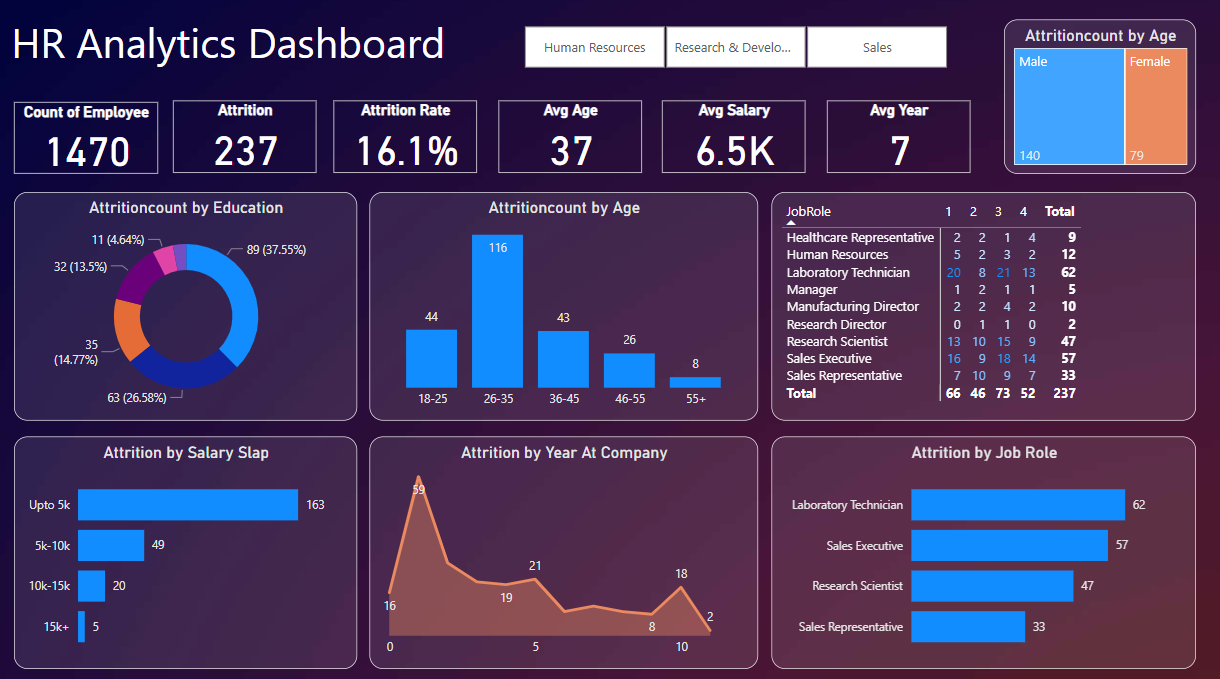

Layout of this report page (visuals, bound fields, positions):
{"tool":"powerbi","page":{"name":"Page 1","canvas":[1280,720],"ordinal":0},"visuals":[{"type":"card","title":"Count of Employee","fields":{"Values":["CountNonNull(HR_Analytics.EmpID)"]},"box":[15.6,112.5,149.9,75],"z":0},{"type":"card","title":"Attrition","fields":{"Values":["Sum(HR_Analytics.Attritioncount)"]},"box":[181.4,111.5,149.3,75.6],"z":1000},{"type":"card","title":"Attrition Rate","fields":{"Values":["HR_Analytics.AtrritionRate"]},"box":[347.7,111.5,149.3,75.6],"z":2000},{"type":"card","title":"Avg Age","fields":{"Values":["Avg(HR_Analytics.Age)"]},"box":[519.7,111.5,149.3,75.6],"z":3000},{"type":"card","title":"Avg Salary","fields":{"Values":["Avg(HR_Analytics.MonthlyIncome)"]},"box":[689.8,111.5,149.3,75.6],"z":4000},{"type":"card","title":"Avg Year","fields":{"Values":["Avg(HR_Analytics.YearsAtCompany)"]},"box":[861.7,111.5,149.3,75.6],"z":5000},{"type":"donutChart","title":"Attritioncount by Education","fields":{"Category":["HR_Analytics.EducationField"],"Y":["Sum(HR_Analytics.Attritioncount)"]},"box":[15.1,206,357.2,238.1],"z":6000},{"type":"columnChart","title":"Attritioncount by Age","fields":{"Category":["HR_Analytics.AgeGroup","HR_Analytics.EducationField"],"Y":["Sum(HR_Analytics.Attritioncount)"]},"box":[385.5,206,404.4,238.1],"z":7000},{"type":"pivotTable","fields":{"Rows":["HR_Analytics.JobRole"],"Columns":["HR_Analytics.JobSatisfaction"],"Values":["Sum(HR_Analytics.Attritioncount)"]},"box":[805,206,442.2,238.1],"z":8000},{"type":"barChart","title":"Attrition by Salary Slap","fields":{"Category":["HR_Analytics.SalarySlab"],"Y":["Sum(HR_Analytics.Attritioncount)"]},"box":[15.1,461.1,357.2,241.9],"z":9000},{"type":"barChart","title":"Attrition by Job Role","fields":{"Y":["Sum(HR_Analytics.Attritioncount)"],"Category":["HR_Analytics.JobRole"]},"box":[805,461.1,442.2,241.9],"z":10000},{"type":"areaChart","title":"Attrition by Year At Company","fields":{"Category":["HR_Analytics.YearsAtCompany"],"Y":["Sum(HR_Analytics.Attritioncount)"]},"box":[385.5,461.1,404.4,241.9],"z":11000},{"type":"treemap","title":"Attritioncount by Age","fields":{"Group":["HR_Analytics.Gender"],"Values":["Sum(HR_Analytics.Attritioncount)"]},"box":[1046.9,26.5,200.3,160.6],"z":12000},{"type":"slicer","fields":{"Values":["HR_Analytics.Department"]},"box":[521.6,26.5,489.5,56.7],"z":13000},{"type":"textbox","box":[7.6,15.1,544.3,68],"z":14000}]}

Visuals, with their boxes in screenshot pixels (x1, y1, x2, y2), scaled from the page's 1280x720 canvas onto the 1220x679 screenshot:
"Count of Employee" card: 15 106 158 177
"Attrition" card: 173 105 315 176
"Attrition Rate" card: 331 105 474 176
"Avg Age" card: 495 105 638 176
"Avg Salary" card: 657 105 800 176
"Avg Year" card: 821 105 964 176
"Attritioncount by Education" donutChart: 14 194 355 419
"Attritioncount by Age" columnChart: 367 194 753 419
pivotTable - HR_Analytics.JobRole x HR_Analytics.JobSatisfaction: 767 194 1189 419
"Attrition by Salary Slap" barChart: 14 435 355 663
"Attrition by Job Role" barChart: 767 435 1189 663
"Attrition by Year At Company" areaChart: 367 435 753 663
"Attritioncount by Age" treemap: 998 25 1189 176
slicer - HR_Analytics.Department: 497 25 964 78
textbox: 7 14 526 78
